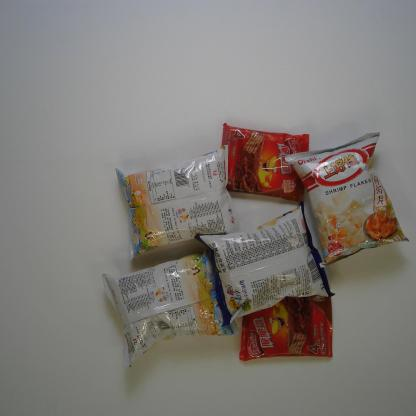Dessert: (221, 122, 310, 202), (237, 295, 334, 362)
Puffed Food: (193, 200, 336, 328), (284, 130, 411, 269), (100, 248, 240, 370), (115, 144, 243, 262)
